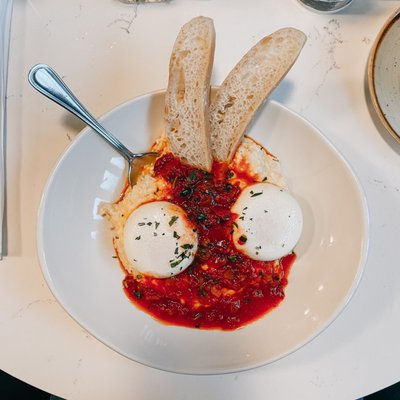salad: (27, 64, 167, 192)
